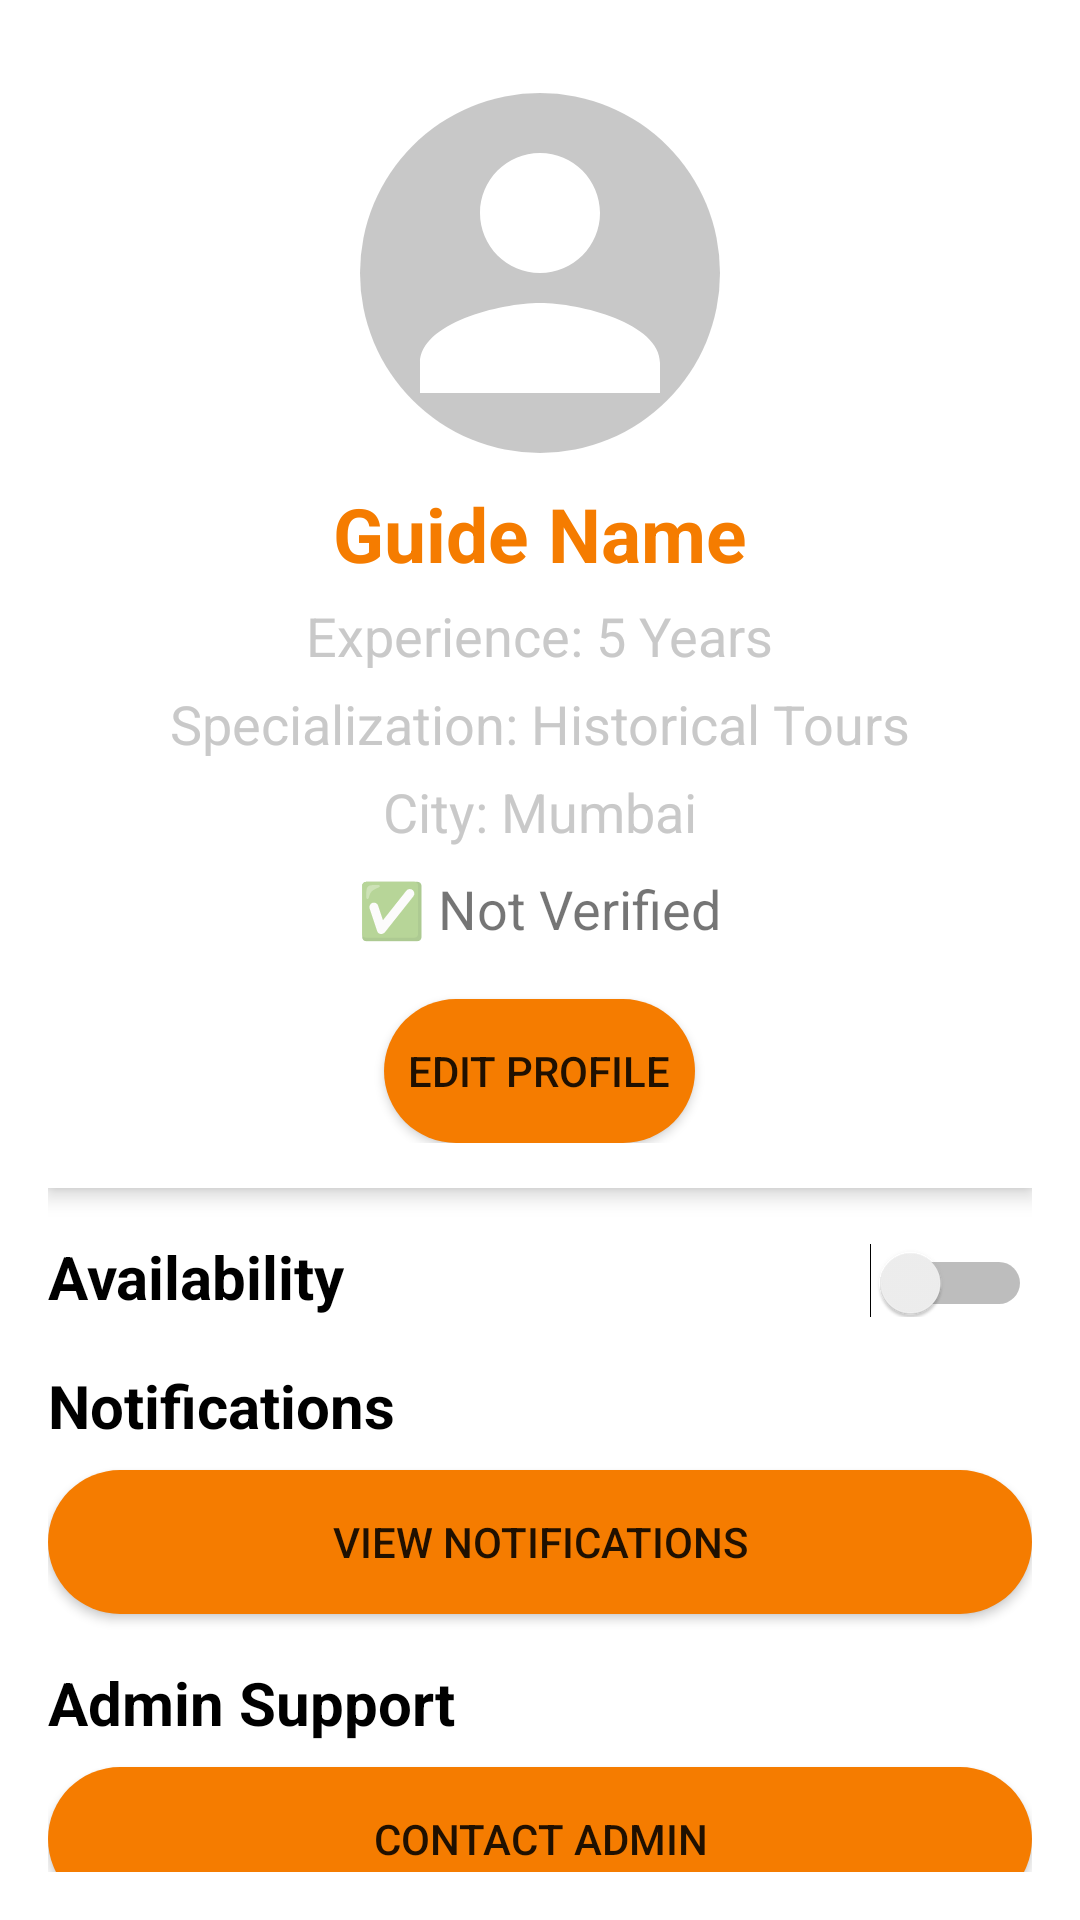

Point at icon controls on the screen. Image size 1080 x 1920, points as point (x, y).
person: point (540, 273)
